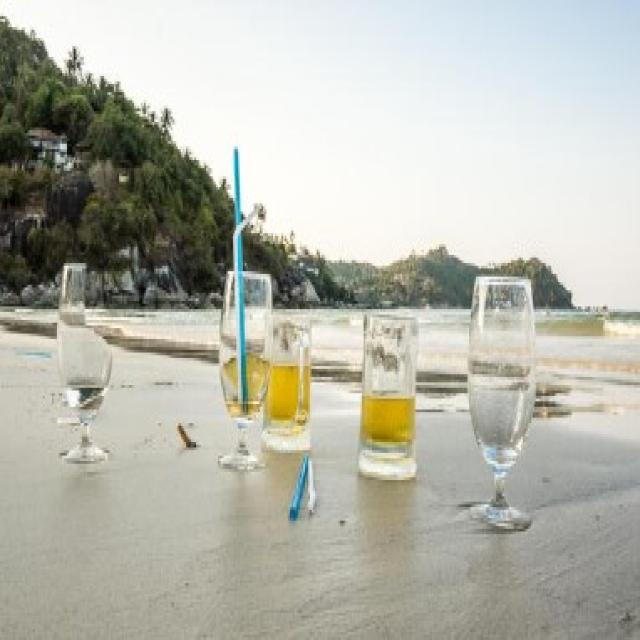electronic: (57, 260, 540, 536)
